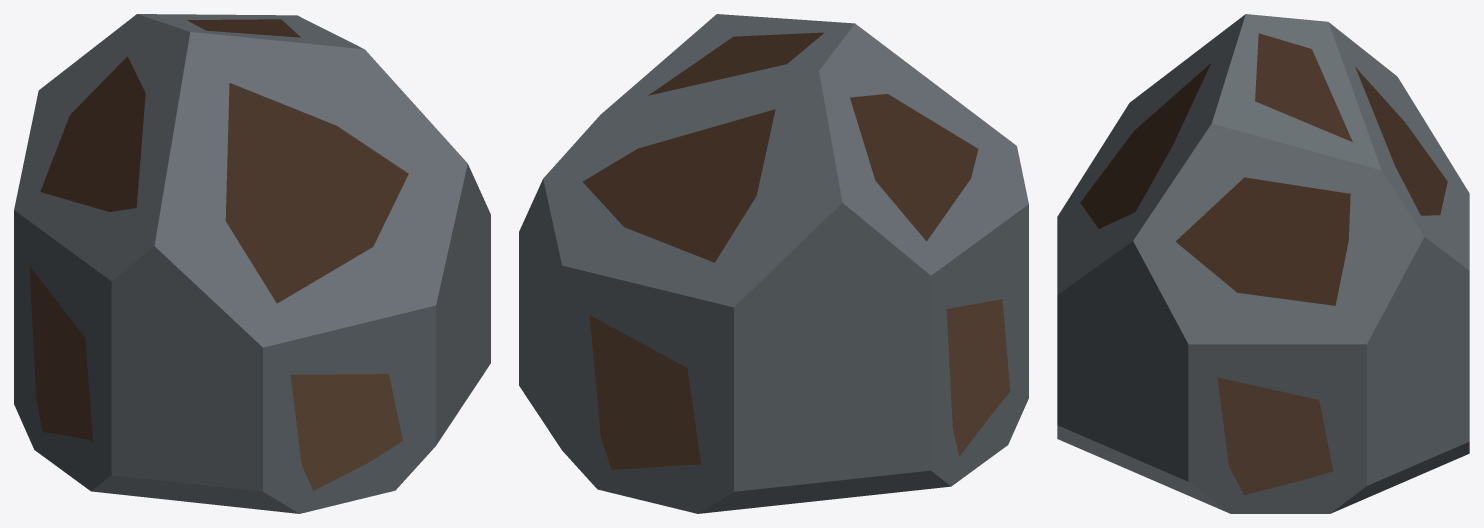
The model's file is iron_ore.glb.
3 views of the same model, side by side, from view 1: azimuth 30°, elevation 25°; view 2: azimuth 150°, elevation 25°; view 3: azimuth 270°, elevation 25° (orthographic). The views are drawn at different scales.
Parts seen in each view (by area): view 1: iron_ore; view 2: iron_ore; view 3: iron_ore.
Part boxes in pixels (x1,y1,x2,y2): iron_ore: (14, 14, 490, 513); iron_ore: (519, 14, 1028, 513); iron_ore: (1057, 14, 1469, 513).
Bounding box in the file's own units: 0.87 × 0.86 × 0.85.
